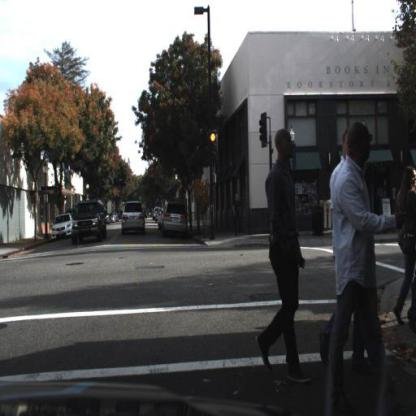car: (69, 197, 110, 249), (71, 201, 107, 245), (160, 200, 191, 238), (163, 201, 188, 237), (122, 201, 146, 237), (50, 210, 75, 244), (53, 213, 74, 240)
pedestrian: (334, 118, 379, 410), (267, 127, 299, 381), (325, 126, 355, 361), (395, 169, 416, 337), (231, 193, 243, 240)
trafficLight-Red: (208, 128, 219, 165)
